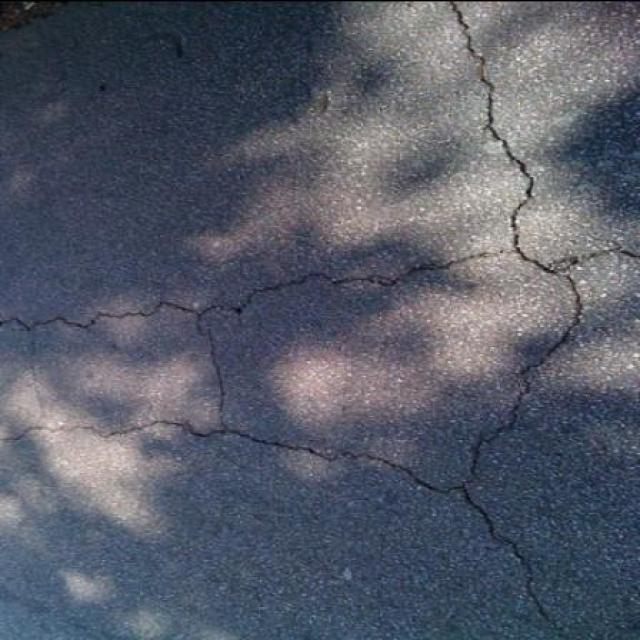Crack: (89, 0, 639, 620), (0, 286, 281, 411), (286, 252, 484, 288), (24, 426, 77, 434)
